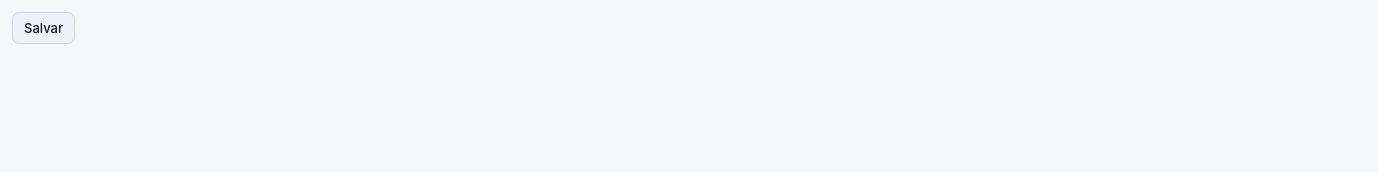
Test: Toast › mostra e fecha um aviso
Expected: the text "Salvo com sucesso" is not shown
Click the button "Salvar". click: click(44, 28)
box: [12, 12, 75, 44]
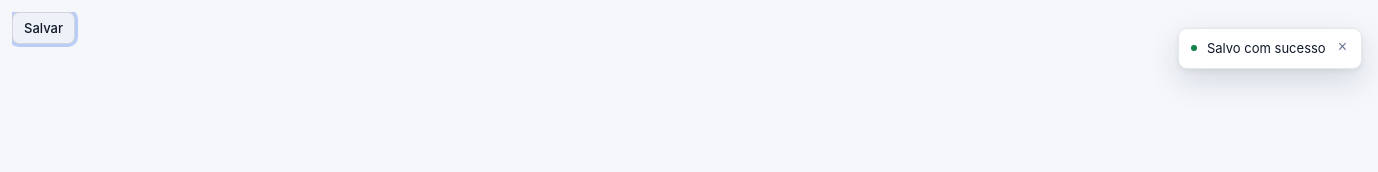
Expected: the text "Salvo com sucesso" is shown, [1207, 39, 1326, 58]
Click the button named "Fechar aviso". click: click(1342, 47)
box: [1336, 39, 1349, 55]
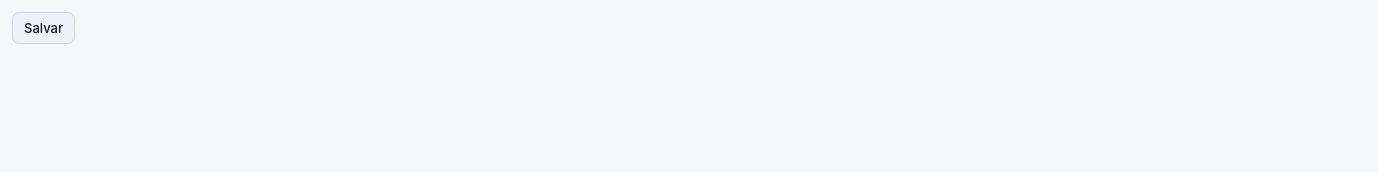
Expected: the text "Salvo com sucesso" is gone
